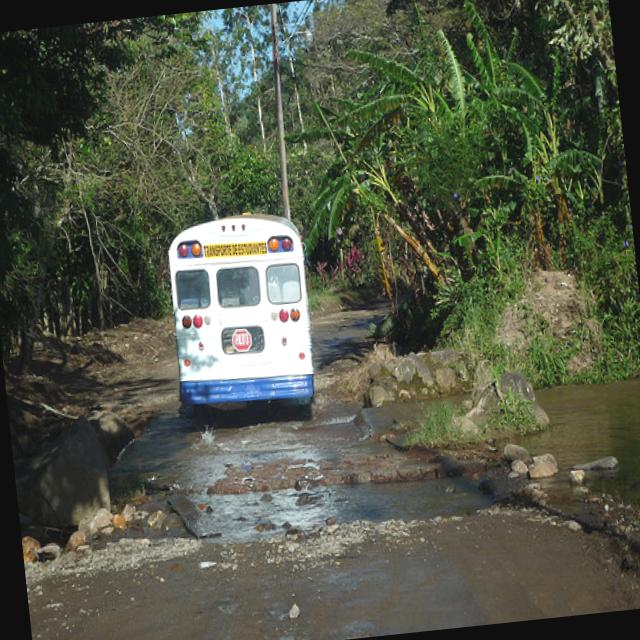Vehicle: (160, 200, 324, 434)
